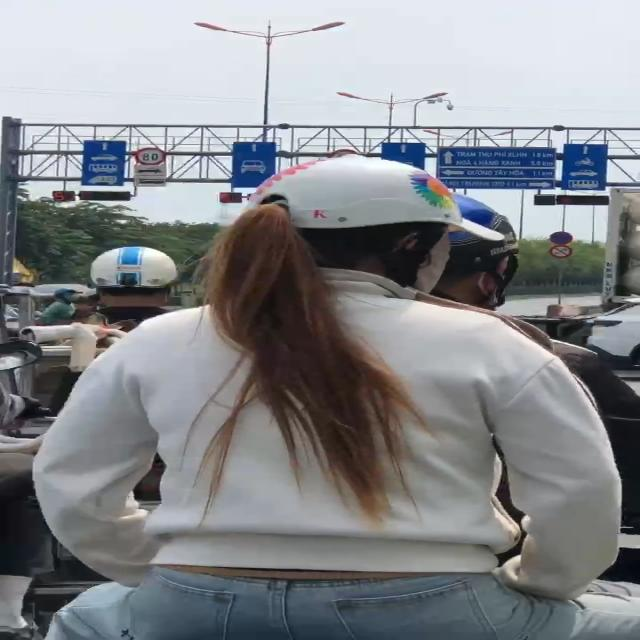Bien bao toc do toi da cho phep: (129, 146, 175, 168)
